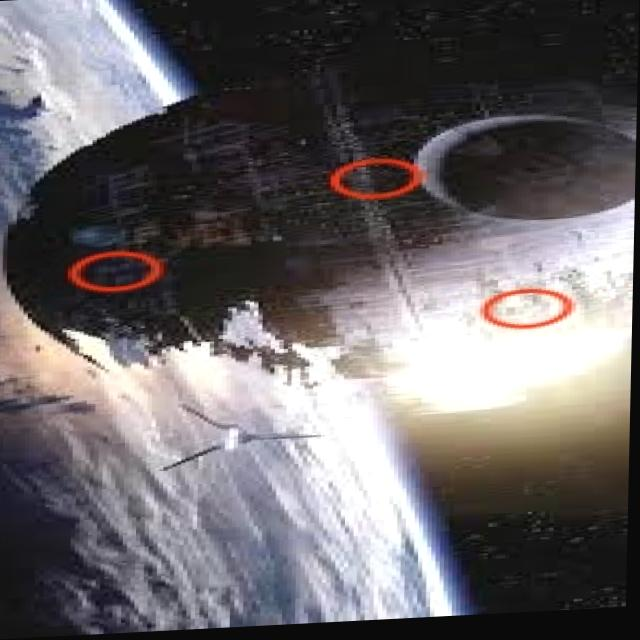deathStar: (4, 56, 639, 436)
